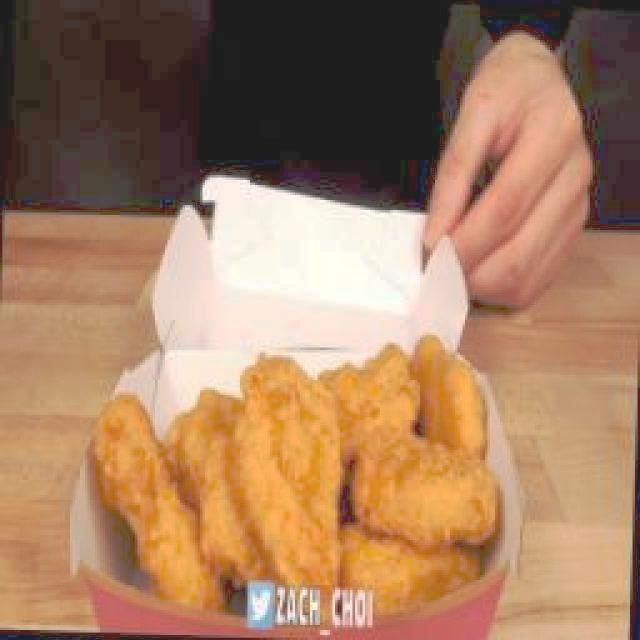String Bean Chicken Breast: (91, 333, 500, 625)
chicken_nuggets: (92, 390, 228, 613), (241, 353, 348, 612), (357, 435, 500, 551), (170, 389, 244, 577), (322, 344, 418, 434)
